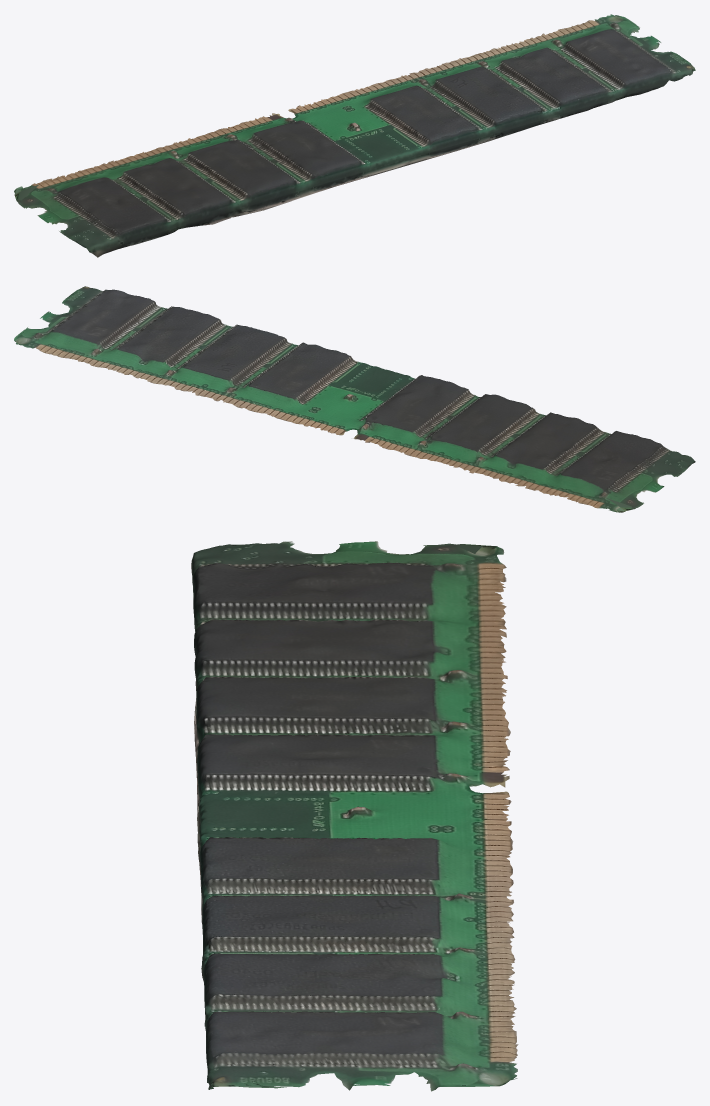
The model's file is RAMback.fbx.
The picture shows the model from 3 angles, top to bottom: view 1: azimuth 30°, elevation 25°; view 2: azimuth 150°, elevation 25°; view 3: azimuth 270°, elevation 25°; orthographic projection. The views are drawn at different scales.
Visible parts, largest first — view 1: Group_Global; view 2: Group_Global; view 3: Group_Global.
Part boxes in pixels (x1,y1,x2,y2): Group_Global: [14, 14, 695, 257]; Group_Global: [14, 286, 695, 512]; Group_Global: [191, 541, 518, 1091].
Bounding box in the file's own units: 318 × 21.55 × 73.25.
